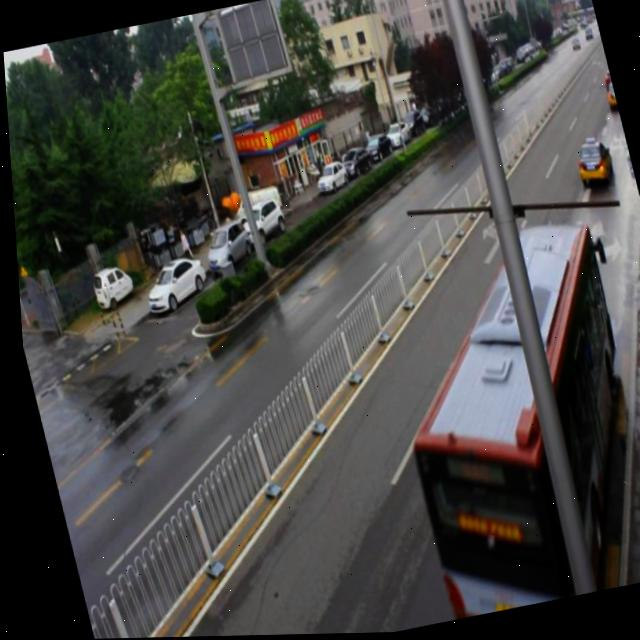car: (568, 137, 612, 191)
van: (355, 207, 640, 623)
